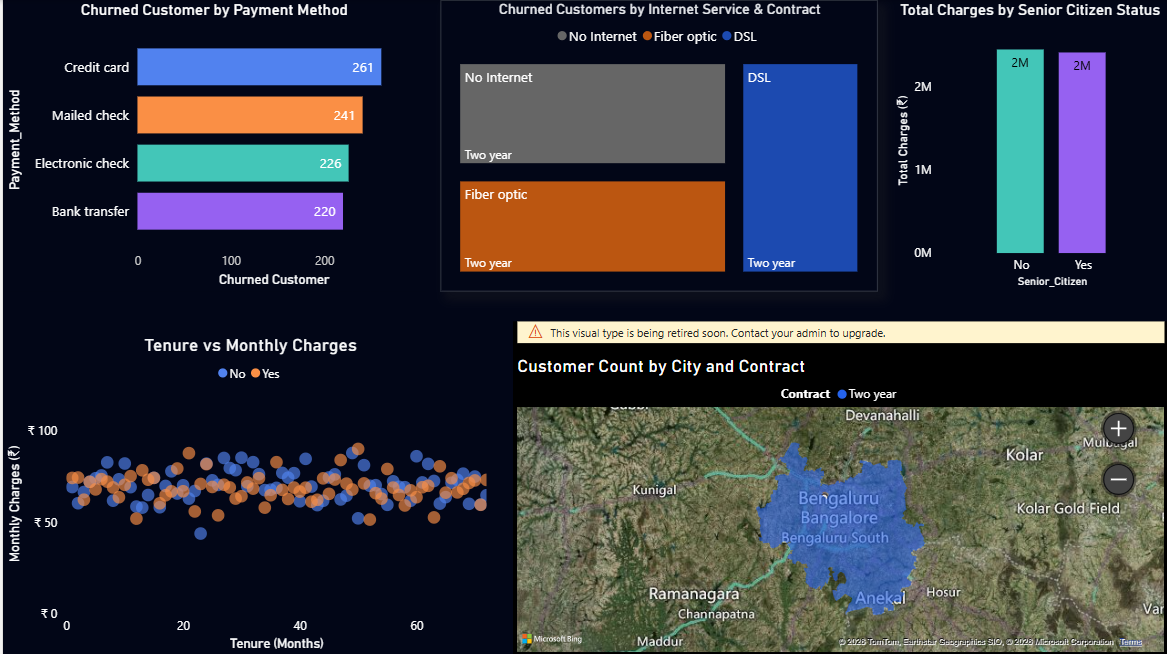

This screenshot's page, from the dashboard's own definition file:
{"tool":"powerbi","page":{"name":"Page 2","canvas":[1280,720],"ordinal":1},"visuals":[{"type":"barChart","title":"Churned Customer by Payment Method","fields":{"Category":["customer churn prediction.Payment_Method"],"Y":["customer churn prediction.Churned Customer"]},"box":[0,0,464,320],"z":0},{"type":"scatterChart","title":"Tenure vs Monthly Charges","fields":{"X":["customer churn prediction.Tenure"],"Series":["customer churn prediction.Churn_Status"],"Y":["Avg(customer churn prediction.Monthly_Charges)"]},"box":[0,368,544,352],"z":1000},{"type":"filledMap","title":"Customer Count by City and Contract","fields":{"Category":["customer churn prediction.City"],"Series":["customer churn prediction.Contract"]},"box":[560,352,720,368],"z":2000},{"type":"clusteredColumnChart","title":"Total Charges by Senior Citizen Status","fields":{"Category":["customer churn prediction.Senior_Citizen"],"Y":["Sum(customer churn prediction.Total_Charges)"]},"box":[976,0,304,320],"z":3000},{"type":"treemap","title":"Churned Customers by Internet Service & Contract","fields":{"Details":["customer churn prediction.Contract"],"Values":["CountNonNull(customer churn prediction.Customer_ID)"],"Group":["customer churn prediction.Internet_Service"]},"box":[480,0,480,320],"z":4000}]}

Visuals, with their boxes in screenshot pixels (x1, y1, x2, y2), scaled from the page's 1280x720 canvas onto the 1167x654 screenshot:
"Churned Customer by Payment Method" barChart: (0, 0, 423, 291)
"Tenure vs Monthly Charges" scatterChart: (0, 334, 496, 653)
"Customer Count by City and Contract" filledMap: (511, 320, 1166, 653)
"Total Charges by Senior Citizen Status" clusteredColumnChart: (890, 0, 1166, 291)
"Churned Customers by Internet Service & Contract" treemap: (438, 0, 875, 291)
